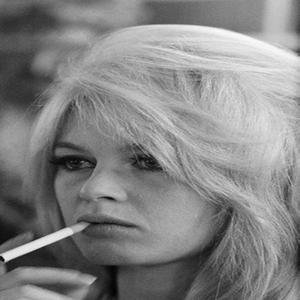cigarette: (1, 220, 92, 266)
